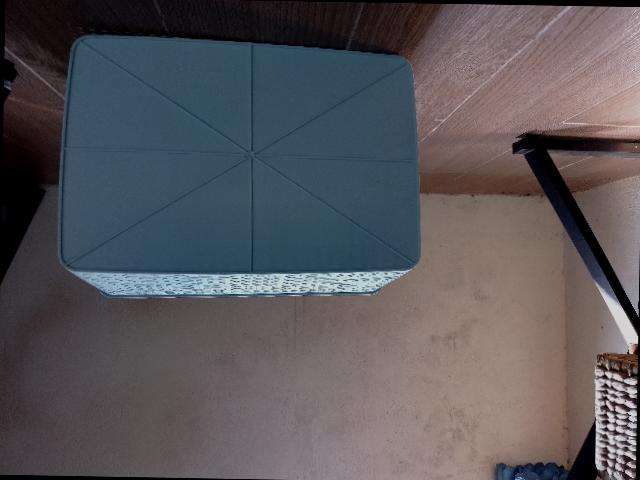cart: (55, 32, 420, 297)
